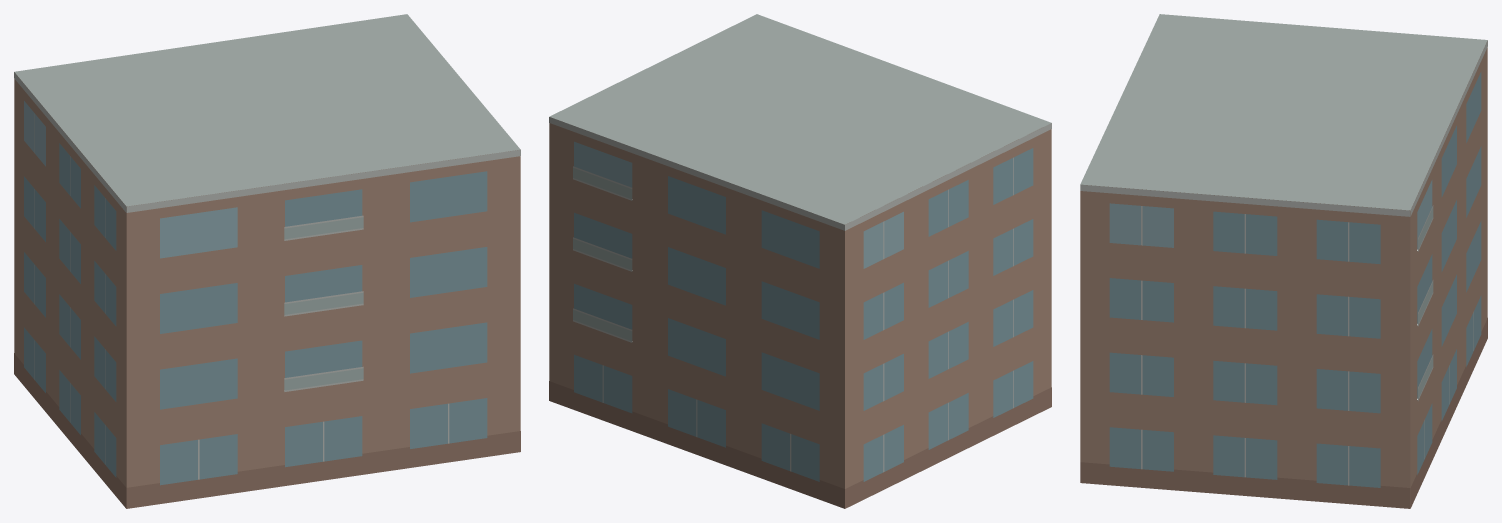
Rendered from survey-upis-32666122.glb.
The picture shows the model from 3 angles, left to right: view 1: azimuth 30°, elevation 25°; view 2: azimuth 150°, elevation 25°; view 3: azimuth 270°, elevation 25°; orthographic projection. The views are drawn at different scales.
Parts seen in each view (by area): view 1: survey-upis-32666122.tmp; view 2: survey-upis-32666122.tmp; view 3: survey-upis-32666122.tmp.
Boxes of the visible parts, x1,y1,x2,y2 form: survey-upis-32666122.tmp: (14,14,520,508); survey-upis-32666122.tmp: (549,14,1051,508); survey-upis-32666122.tmp: (1080,14,1487,508).
Size of the model in its own units: 16.05 by 11.36 by 14.07.
